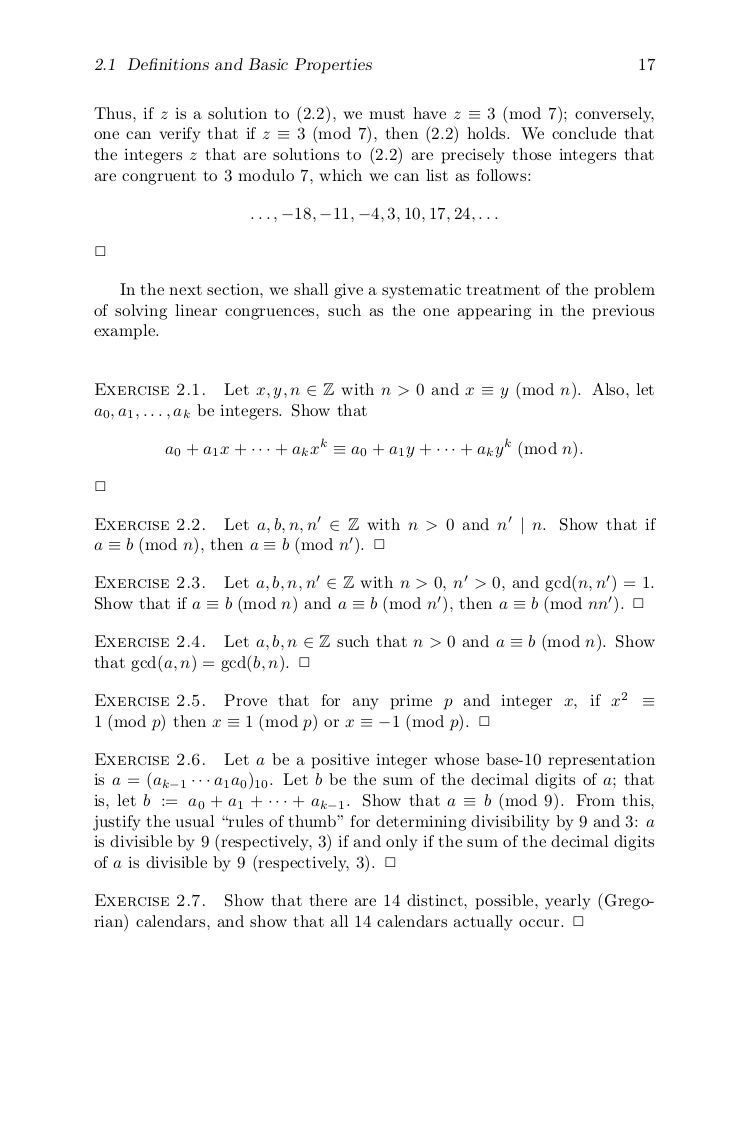formula: (165, 437, 582, 459), (251, 206, 497, 222)
